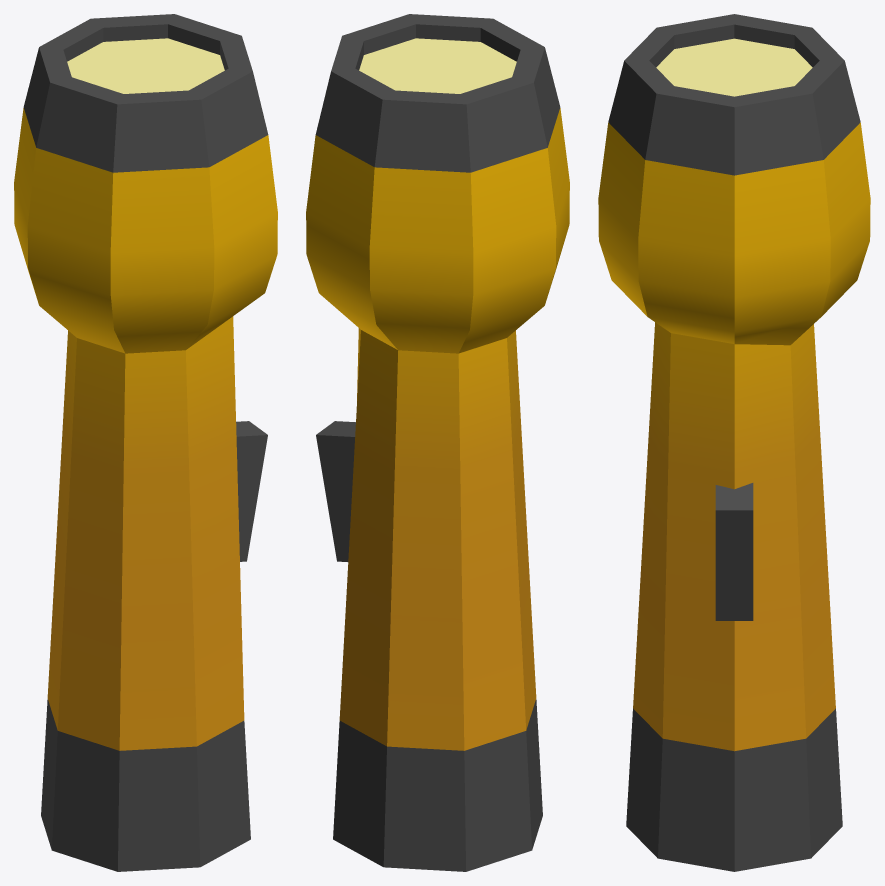
Rendered from Flashlight.fbx.
3 renders of one model, left to right at view 1: azimuth 30°, elevation 25°; view 2: azimuth 150°, elevation 25°; view 3: azimuth 270°, elevation 25°, orthographic.
Parts seen in each view (by area): view 1: Flashlight; view 2: Flashlight; view 3: Flashlight.
Part boxes in pixels (left/top/right/bottom): Flashlight: left=14, top=14, right=277, bottom=871; Flashlight: left=306, top=14, right=569, bottom=871; Flashlight: left=598, top=14, right=870, bottom=871.
Size of the model in its own units: 11.72 by 36.39 by 11.72.
